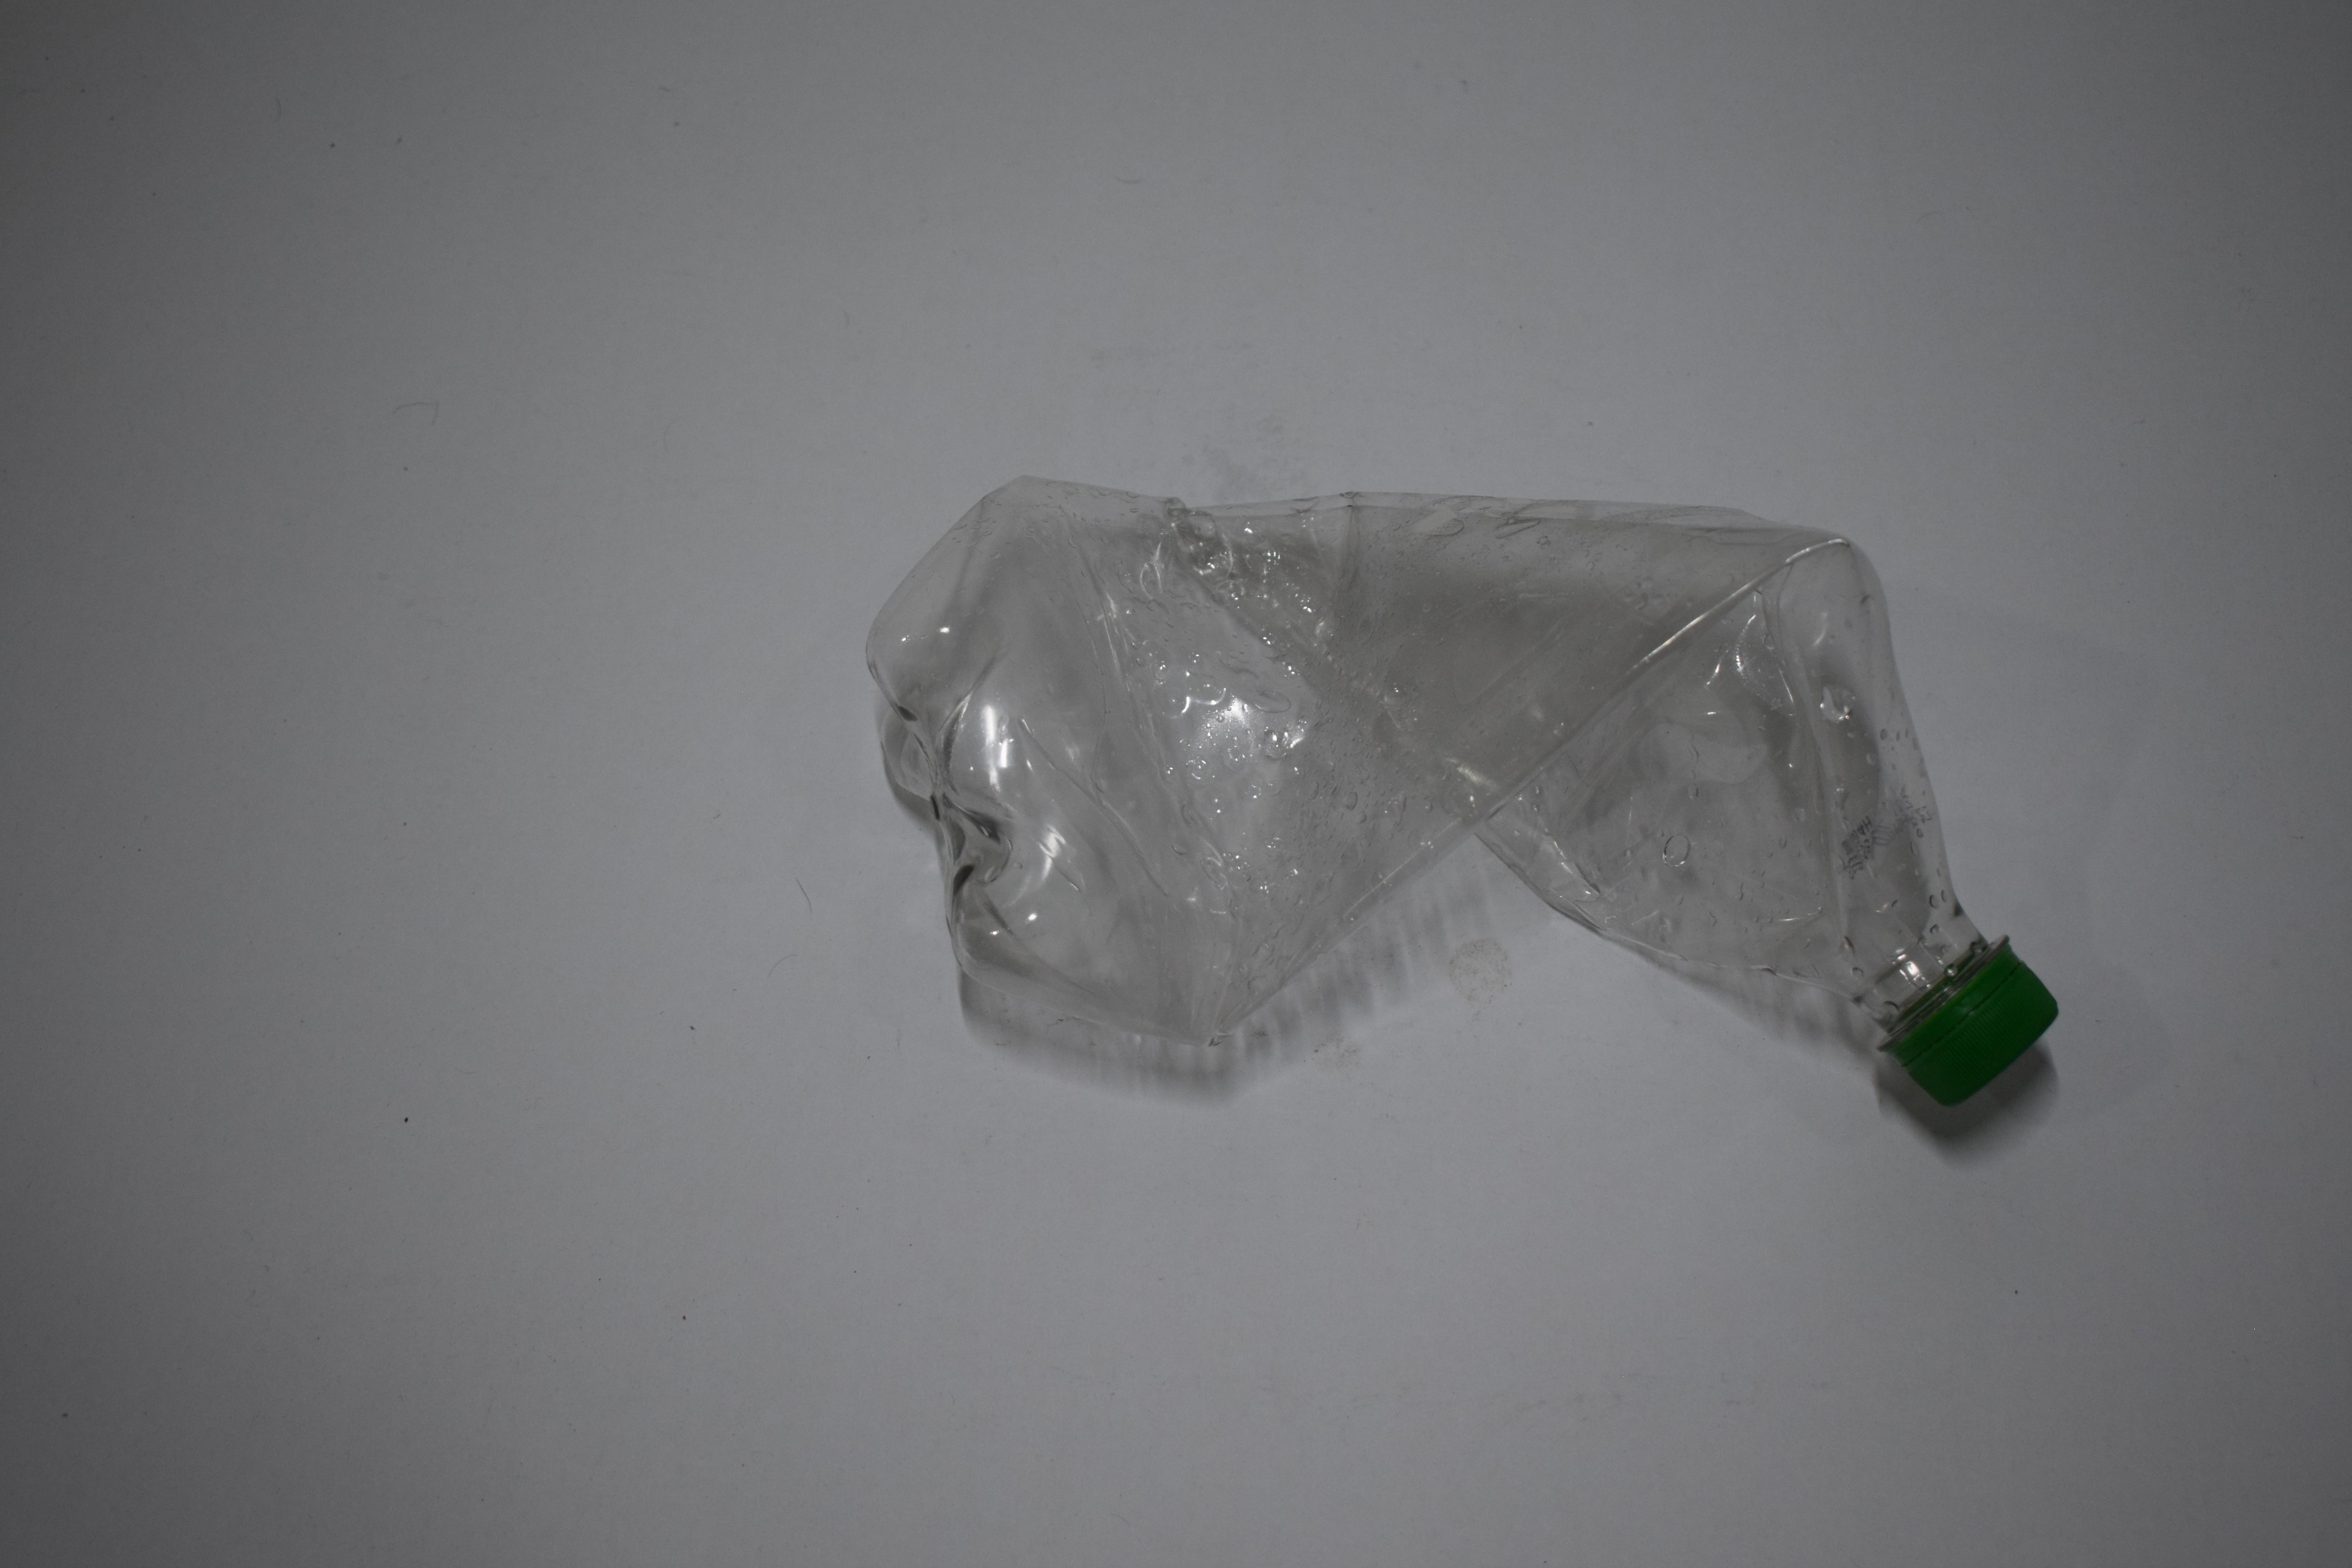bottle: (1447, 0, 1477, 329)
